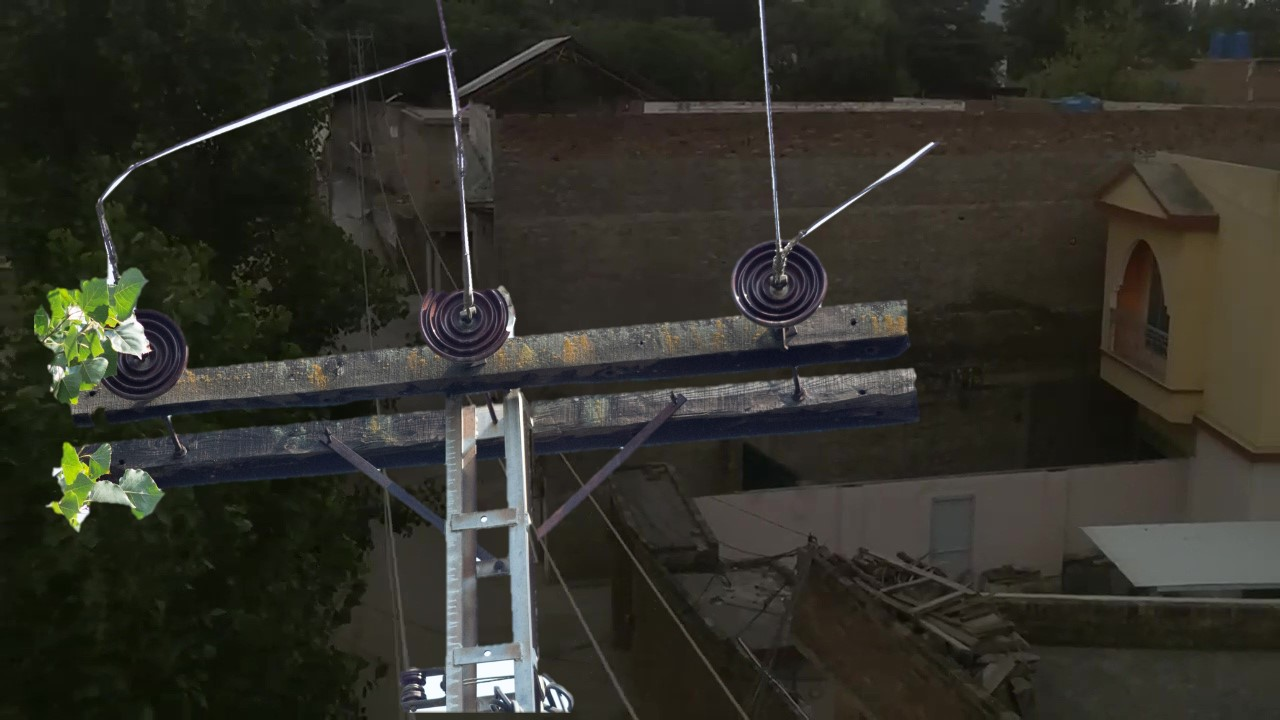defect_disc: (415, 273, 522, 366)
insulator_disc: (726, 236, 834, 331), (102, 298, 190, 403)
